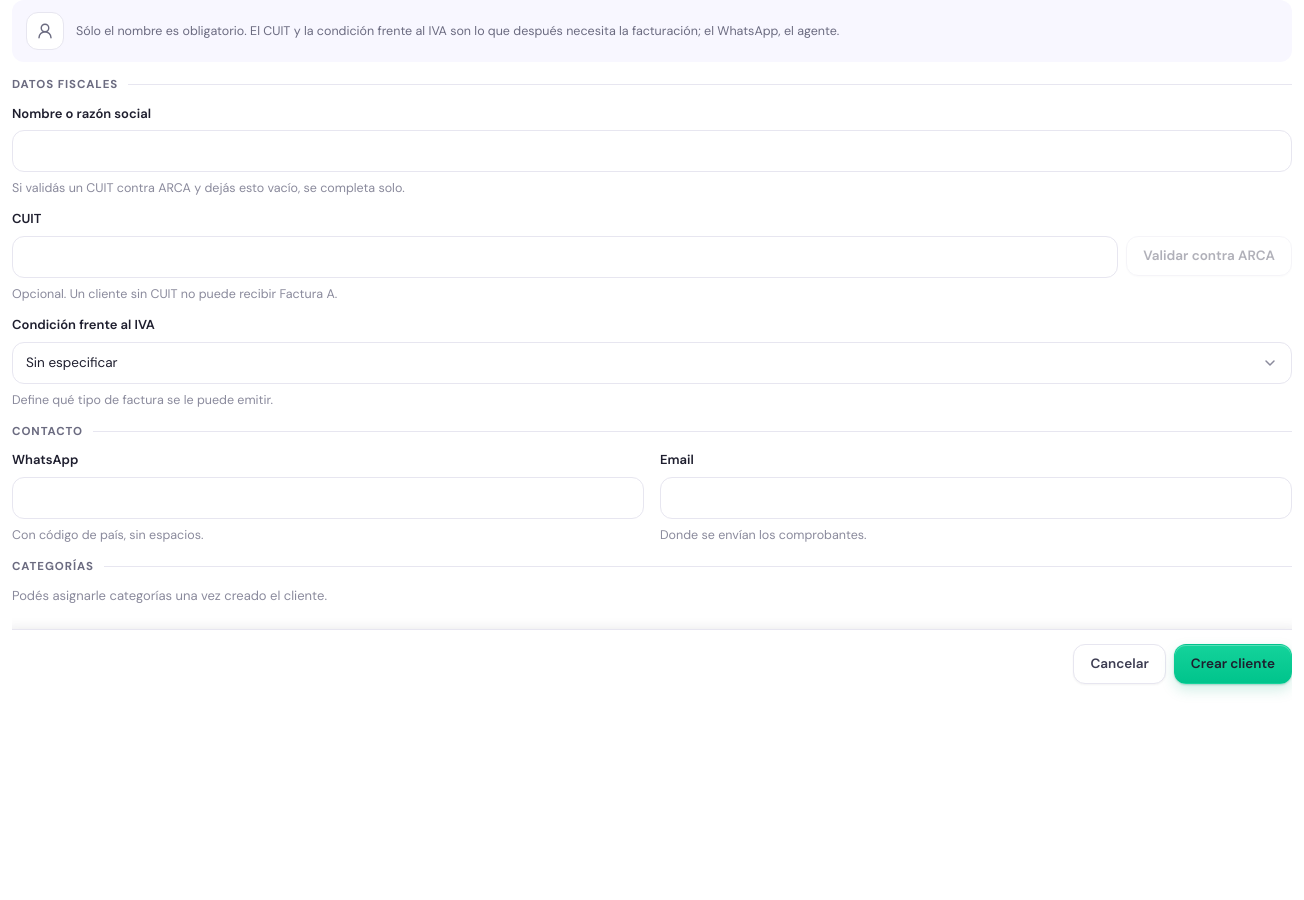
Scenario: FormularioDeCliente › no disponible avisa que el cliente se guarda igual
Step 1. Type "30712345671" into the field labelled "CUIT" → (565, 257), box x1=12 y1=236 x2=1118 y2=278
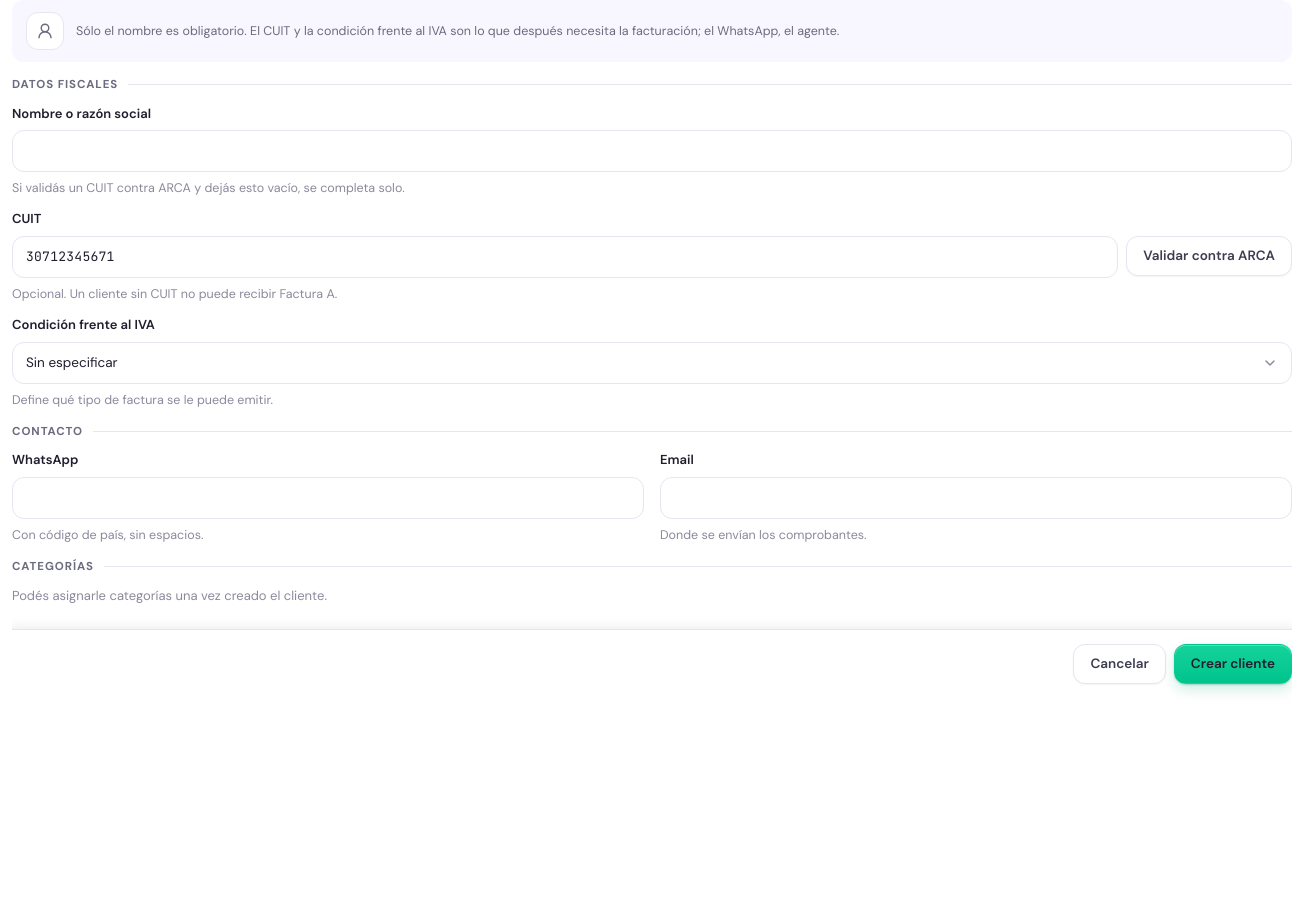
Step 2. Click the button "Validar contra ARCA" → (1209, 256), box x1=1126 y1=236 x2=1292 y2=276
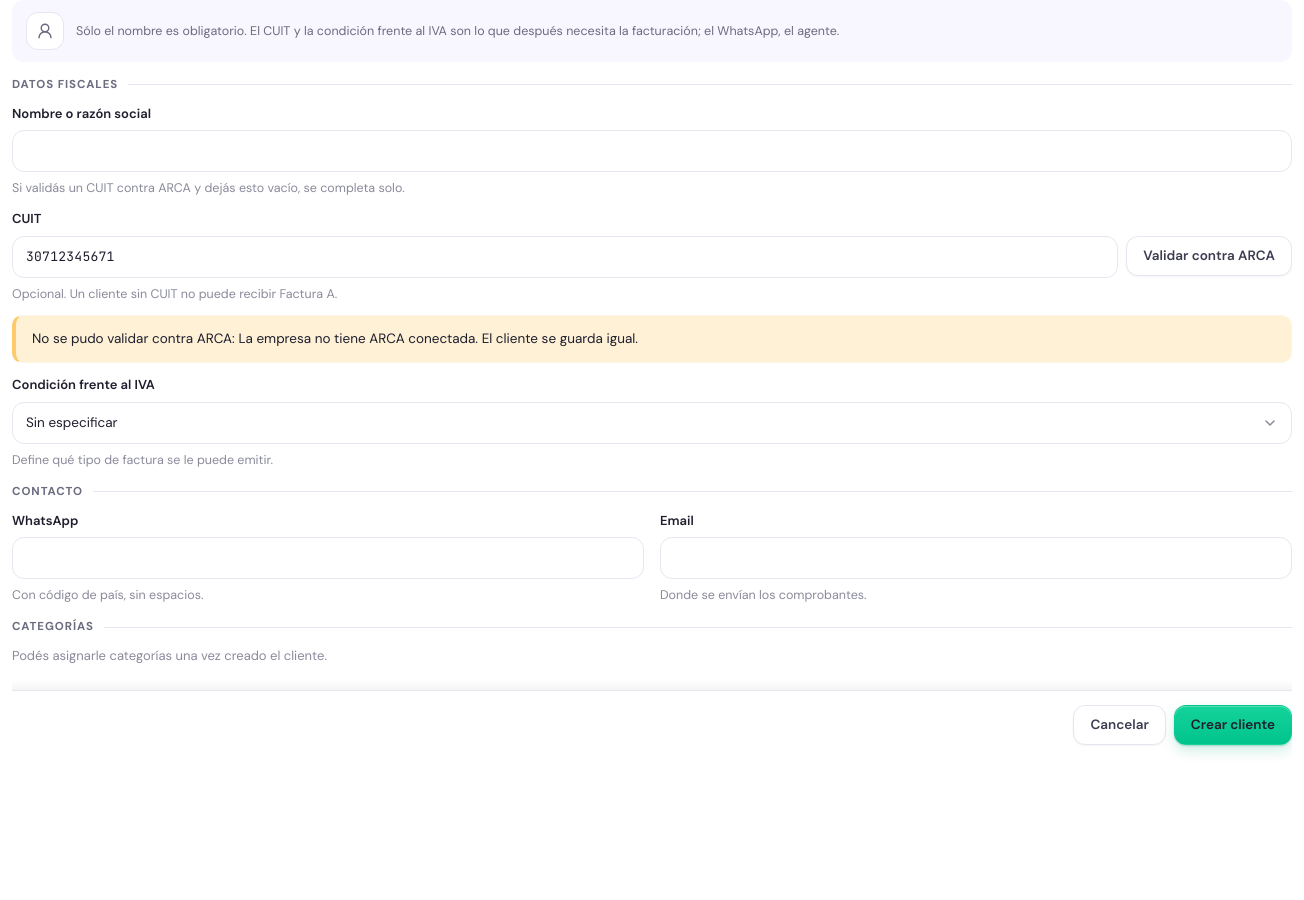
Expected: the text "La empresa no tiene ARCA conectada" is shown, x1=32 y1=330 x2=638 y2=347
